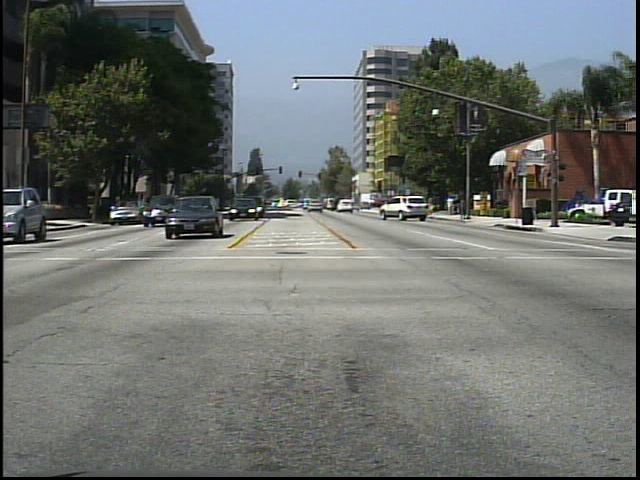person: (421, 191, 438, 217), (446, 194, 457, 216)
